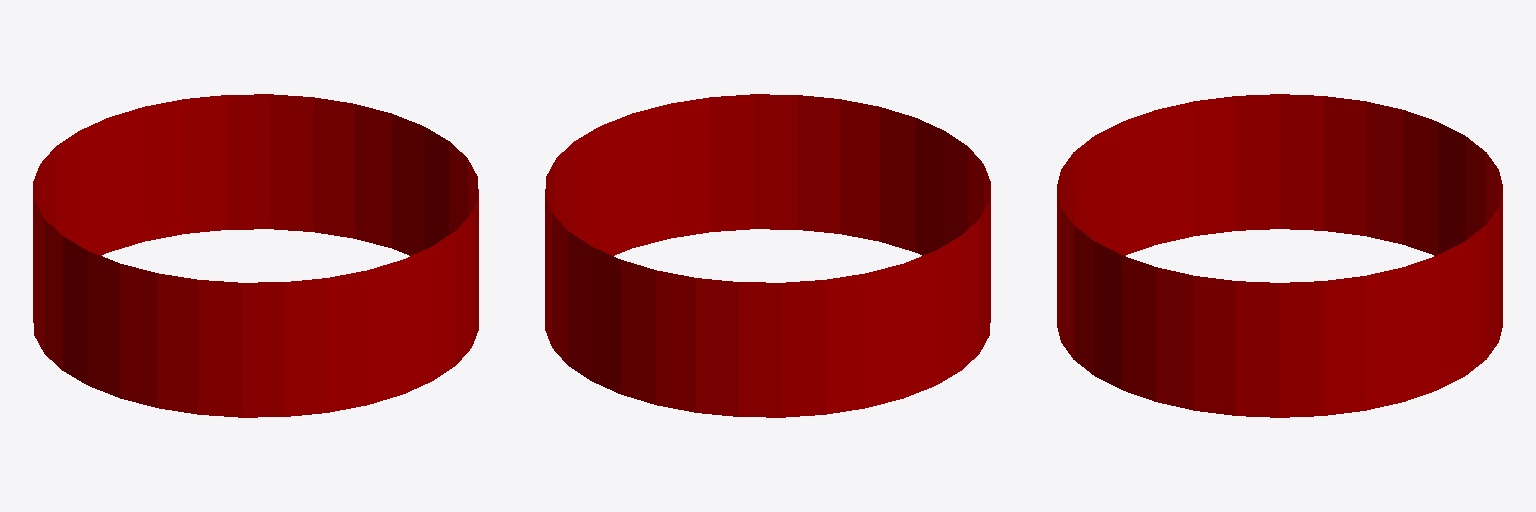
The model's file is hollow_cylinder_red.obj.
3 views of the same model, side by side, from view 1: azimuth 30°, elevation 25°; view 2: azimuth 150°, elevation 25°; view 3: azimuth 270°, elevation 25° (orthographic).
Parts seen in each view (by area): view 1: Cylinder; view 2: Cylinder; view 3: Cylinder.
Part boxes in pixels (left/top/right/bottom): Cylinder: left=33, top=94, right=478, bottom=417; Cylinder: left=545, top=94, right=990, bottom=417; Cylinder: left=1057, top=94, right=1502, bottom=417.
Size of the model in its own units: 1.2 by 0.4 by 1.2.